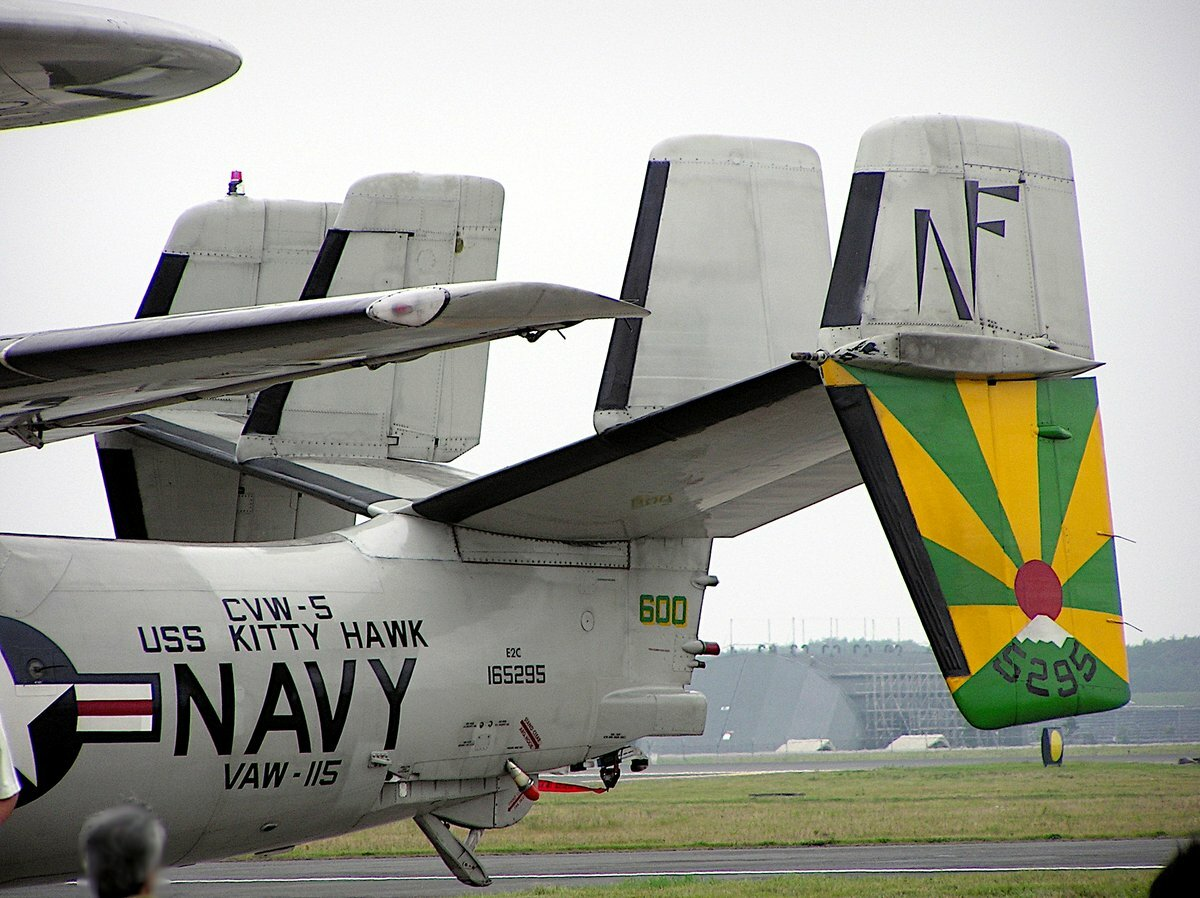E2: (1, 1, 1143, 889)
